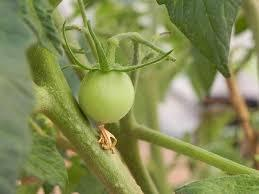Muda: (66, 52, 142, 128)
